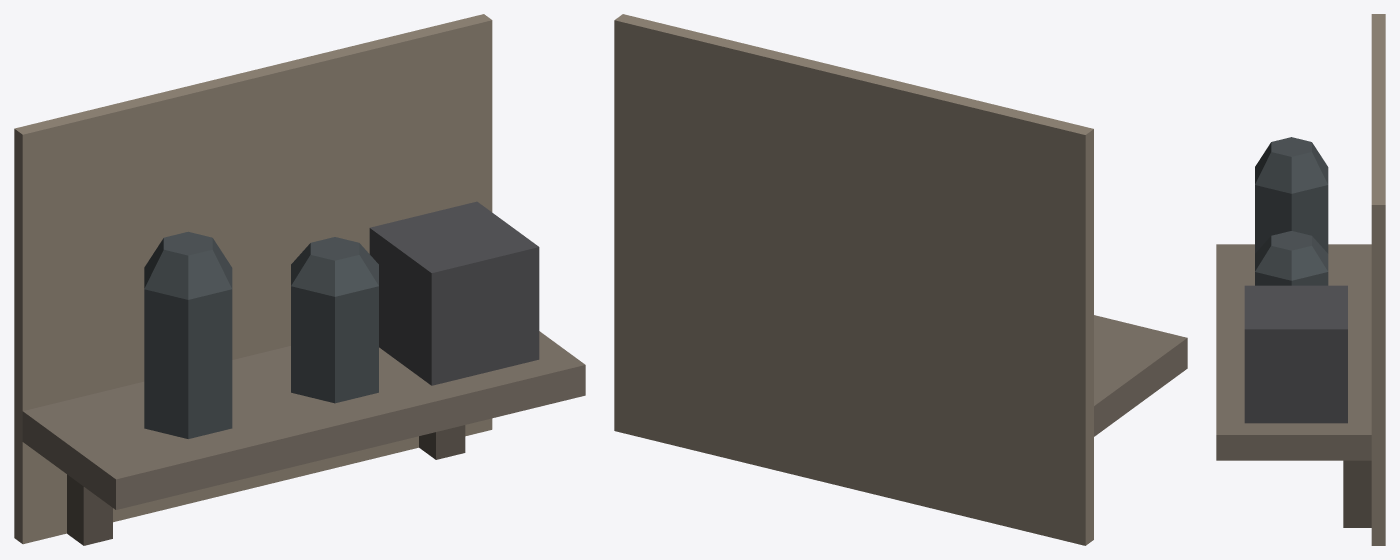
File: wall_rack.glb
3 renders of one model, left to right at view 1: azimuth 30°, elevation 25°; view 2: azimuth 150°, elevation 25°; view 3: azimuth 270°, elevation 25°, orthographic. The views are drawn at different scales.
Visible parts, largest first — view 1: wall_rack; view 2: wall_rack; view 3: wall_rack.
Part boxes in pixels (box(x1,y1,x2,y2)): wall_rack: box(14, 14, 585, 545); wall_rack: box(614, 14, 1187, 545); wall_rack: box(1216, 14, 1385, 545).
Bounding box in the file's own units: 0.48 × 0.4 × 0.18.
